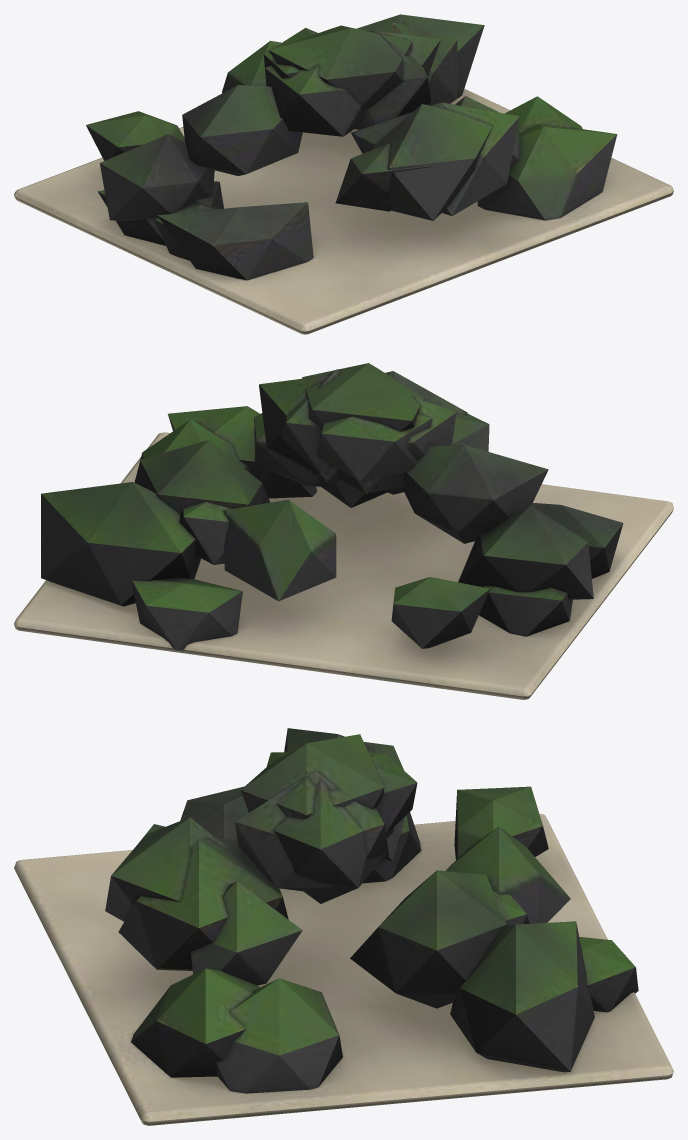
The model's file is coal_pile.glb.
3 views of the same model, one above another, from view 1: azimuth 30°, elevation 25°; view 2: azimuth 150°, elevation 25°; view 3: azimuth 270°, elevation 25° (orthographic). The views are drawn at different scales.
Visible parts, largest first — view 1: CoalPile; view 2: CoalPile; view 3: CoalPile.
Part boxes in pixels (bbox=[...]): CoalPile: bbox=[14, 14, 673, 334]; CoalPile: bbox=[14, 363, 673, 699]; CoalPile: bbox=[14, 728, 673, 1125].
Size of the model in its own units: 0.9239 by 0.3694 by 0.8469.
Materials: 2 (2 with a texture image).
